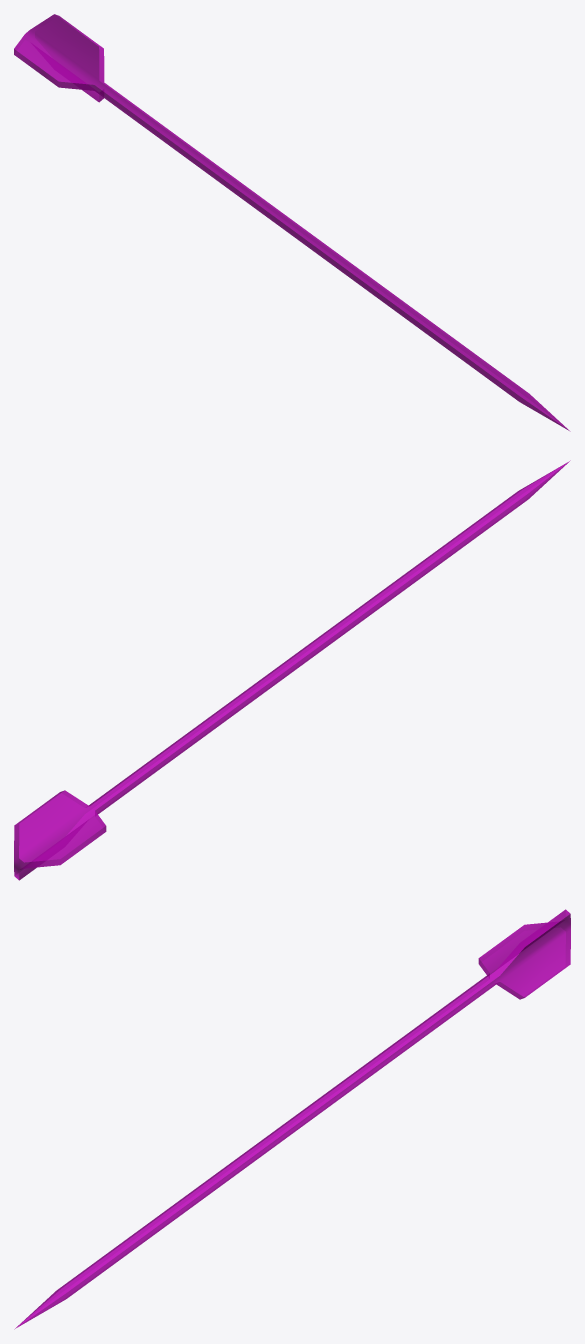
File: homura_arrow2.fbx
The picture shows the model from 3 angles, top to bottom: view 1: azimuth 30°, elevation 25°; view 2: azimuth 150°, elevation 25°; view 3: azimuth 330°, elevation 25°; orthographic projection. The views are drawn at different scales.
Visible parts, largest first — view 1: homura_arrow; view 2: homura_arrow; view 3: homura_arrow.
Boxes of the visible parts, bbox=[...] form: homura_arrow: bbox=[14, 14, 570, 431]; homura_arrow: bbox=[14, 460, 570, 880]; homura_arrow: bbox=[14, 909, 570, 1329].
Bounding box in the file's own units: 10.58 × 12.44 × 219.
